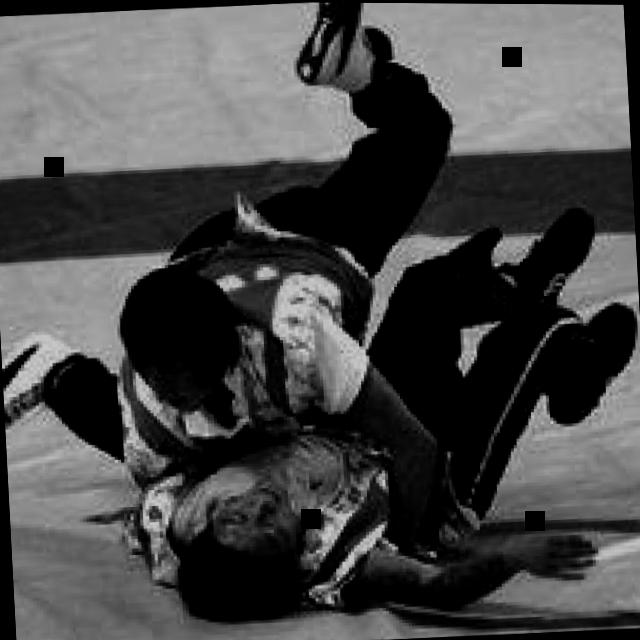Fall-Detected: (0, 0, 631, 596)
